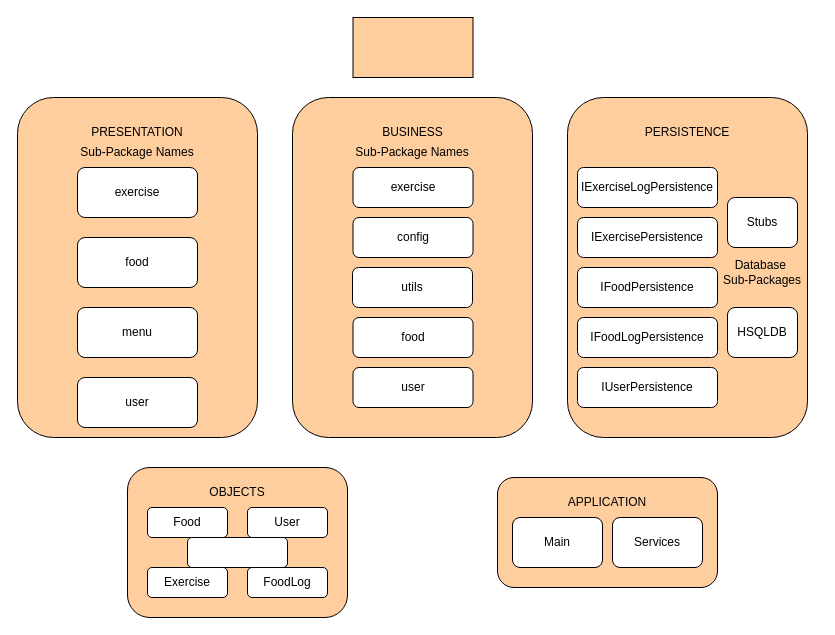
Image size: 835x635. Some labels were removed from this diagram. The shapes that lost their labels are listed below. From the top down, each one's box as (x1, y1, x2, y2) in pixels, then its label:
(352, 16, 473, 78): GROUP 4 I-SCAM COMP 3350 FITTRACK
(186, 536, 288, 568): ExerciseLog
